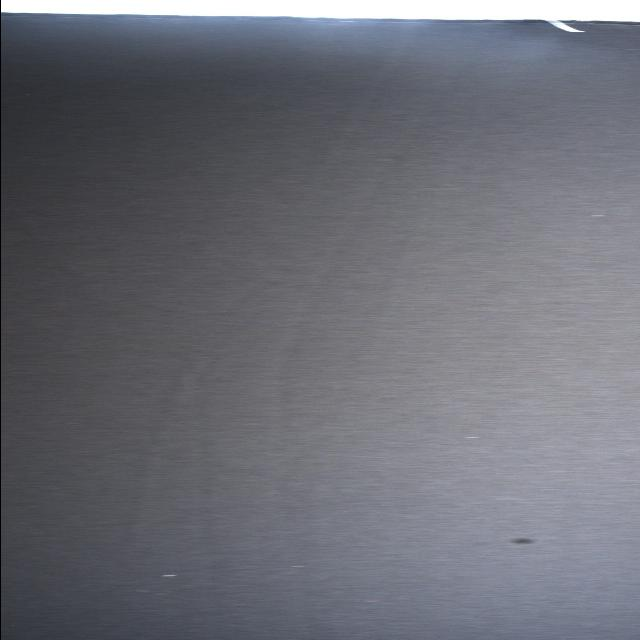crease: (269, 116, 453, 448), (108, 365, 222, 556)
whiteDefect: (157, 572, 186, 578), (457, 434, 484, 440), (584, 213, 616, 218)
